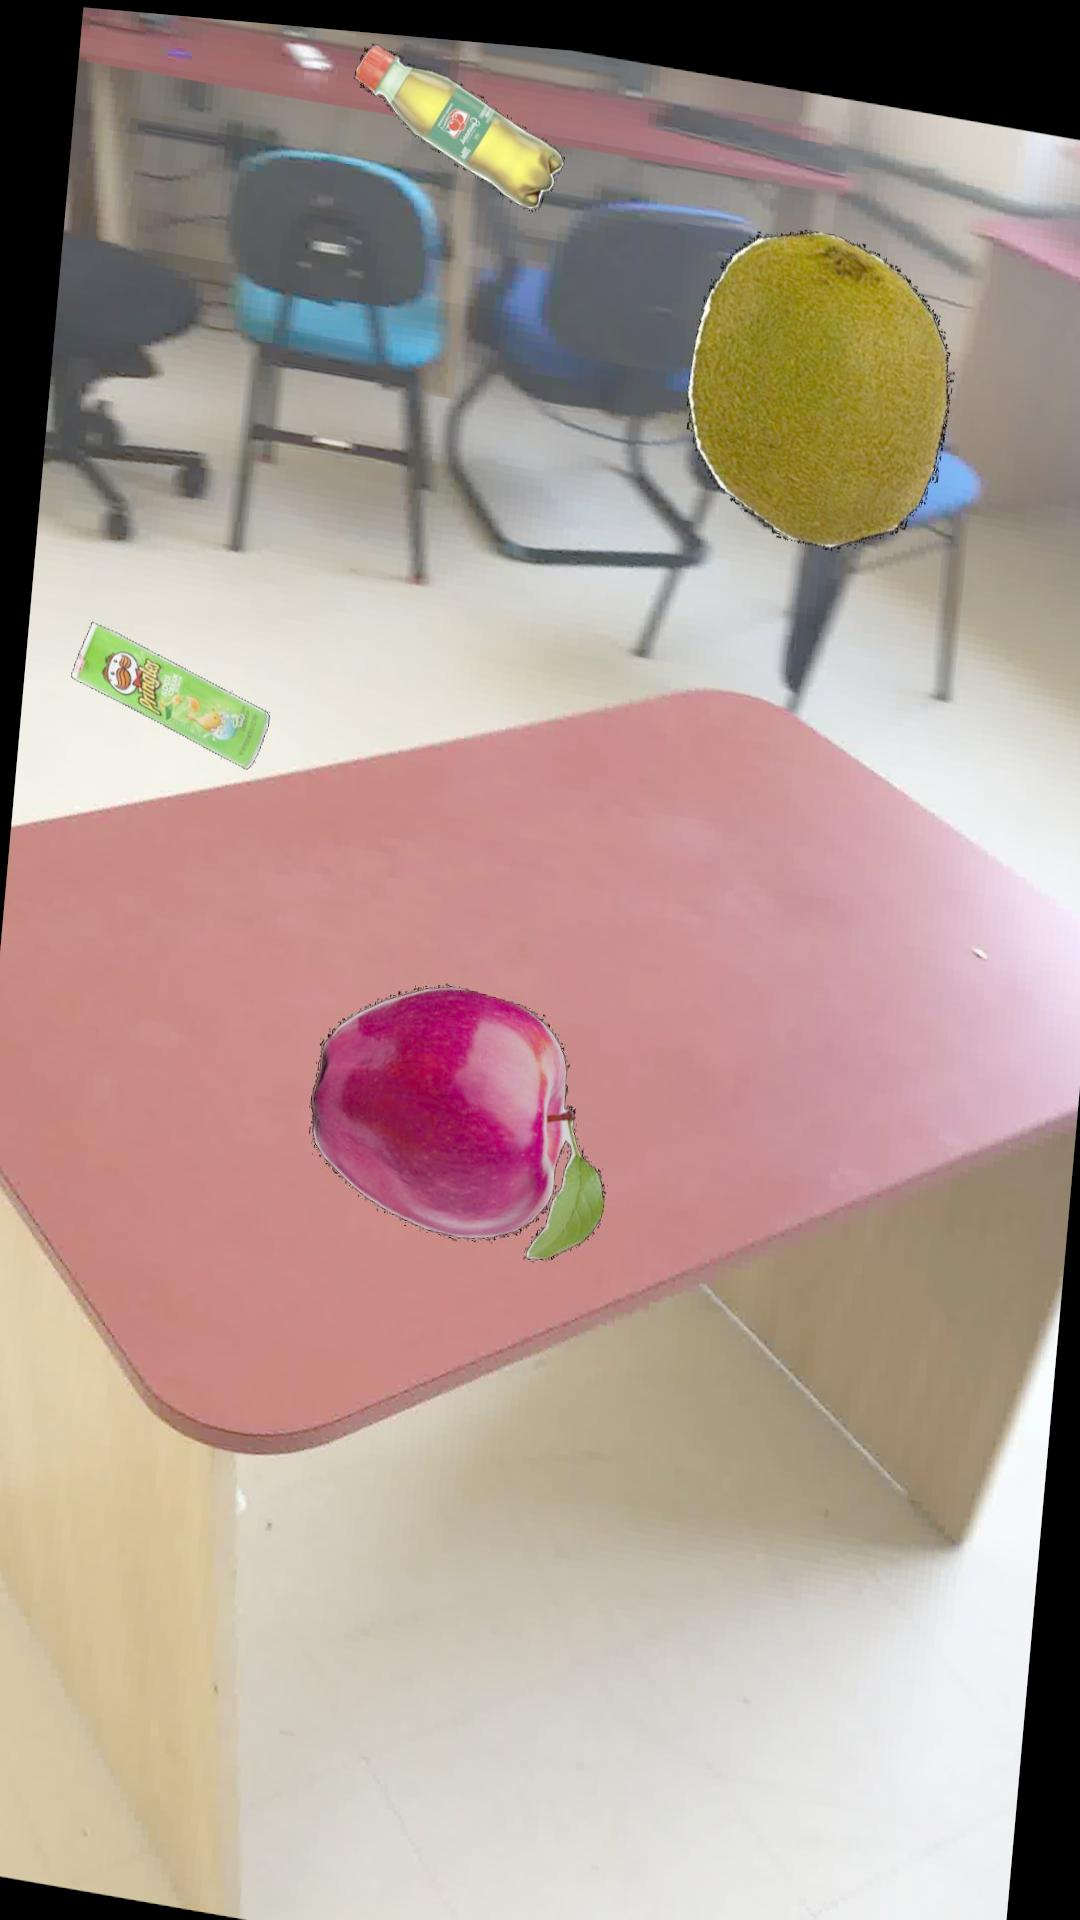apple: (307, 975, 604, 1247)
guarana: (351, 34, 562, 196)
kiwi: (684, 212, 951, 533)
pringles: (69, 617, 268, 762)
